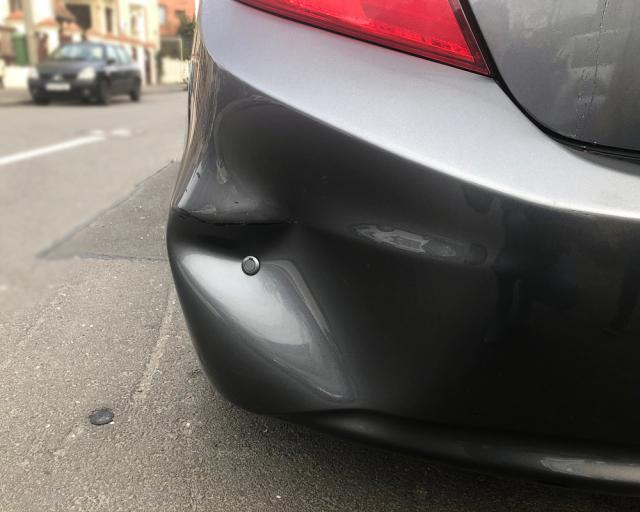dent: (171, 98, 468, 407)
